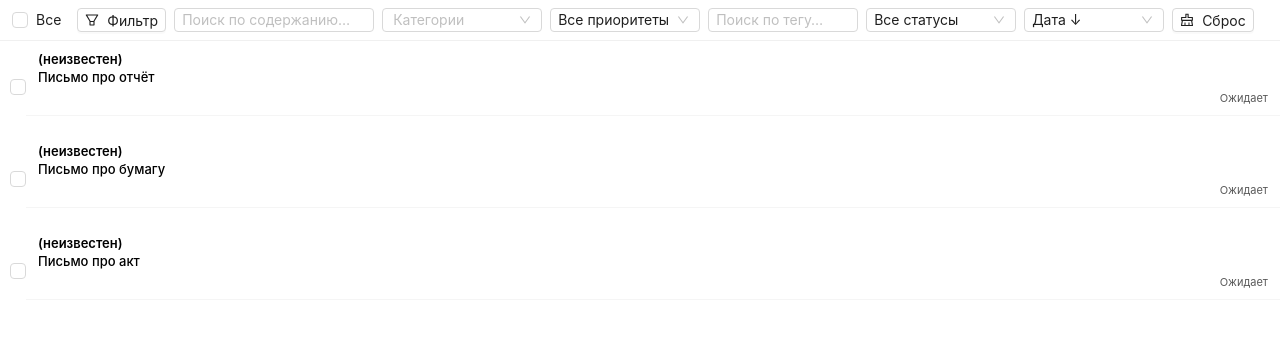
Test: EmailList: выбор и полоса массовых действий › «Все» отмечает весь видимый список, а не только то, что было выбрано раньше
Click the 1st checkbox labelled "Все" at (41, 20), box [12,9,69,31]
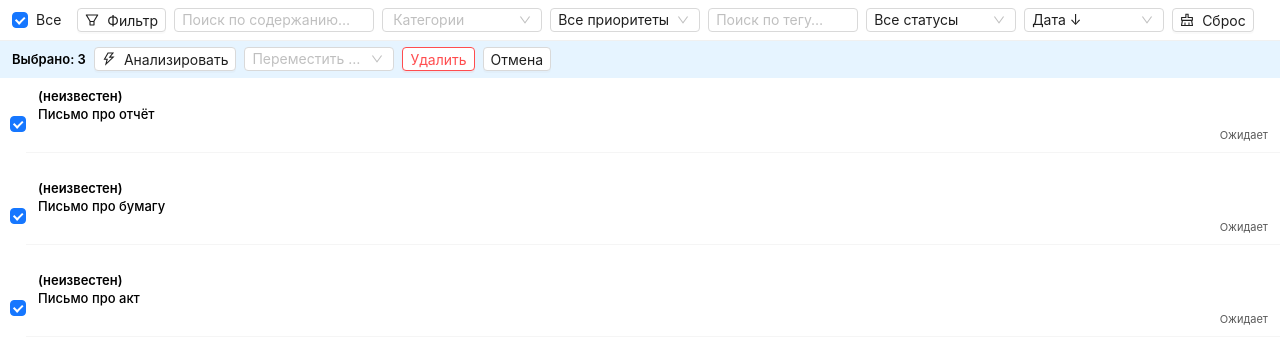
Now the text "Выбрано: 3" is shown, box [12,51,86,67]
